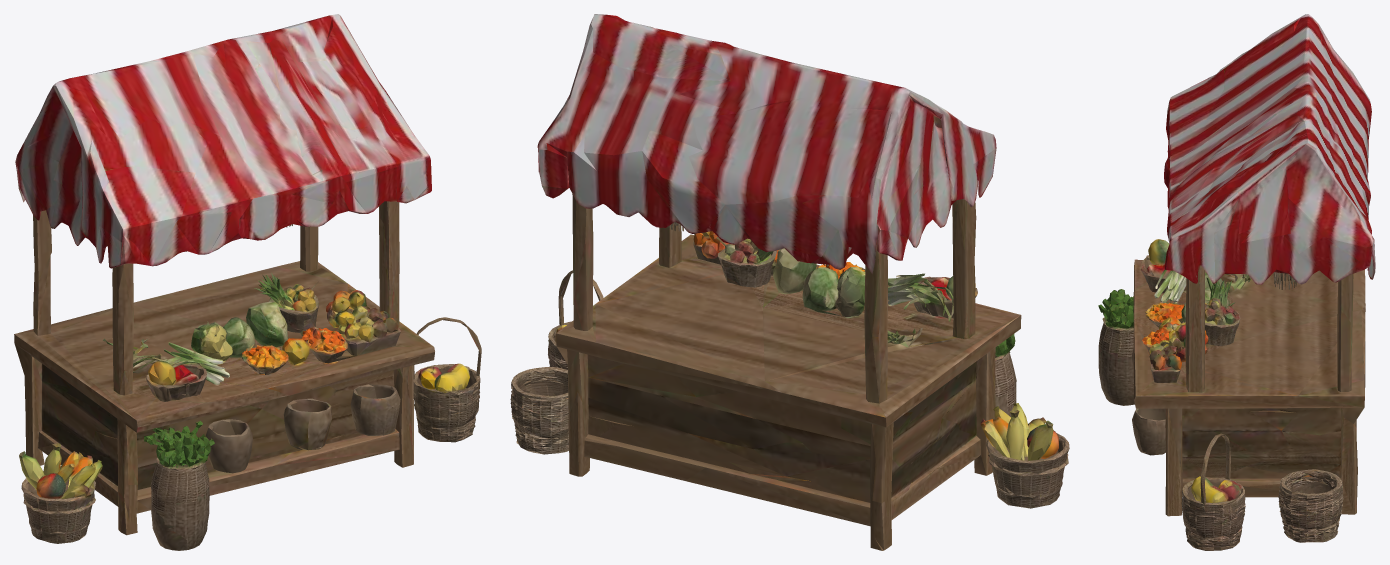
File: stall.glb
The picture shows the model from 3 angles, left to right: view 1: azimuth 30°, elevation 25°; view 2: azimuth 150°, elevation 25°; view 3: azimuth 270°, elevation 25°; orthographic projection. The views are drawn at different scales.
Visible parts, largest first — view 1: output_unwrapped; view 2: output_unwrapped; view 3: output_unwrapped.
Part boxes in pixels (box(x1,y1,x2,y2)): output_unwrapped: box(14, 14, 481, 550); output_unwrapped: box(510, 14, 1069, 550); output_unwrapped: box(1098, 14, 1375, 550).
Size of the model in its own units: 1.9 by 1.58 by 1.07.
1 material, 1 textured.
